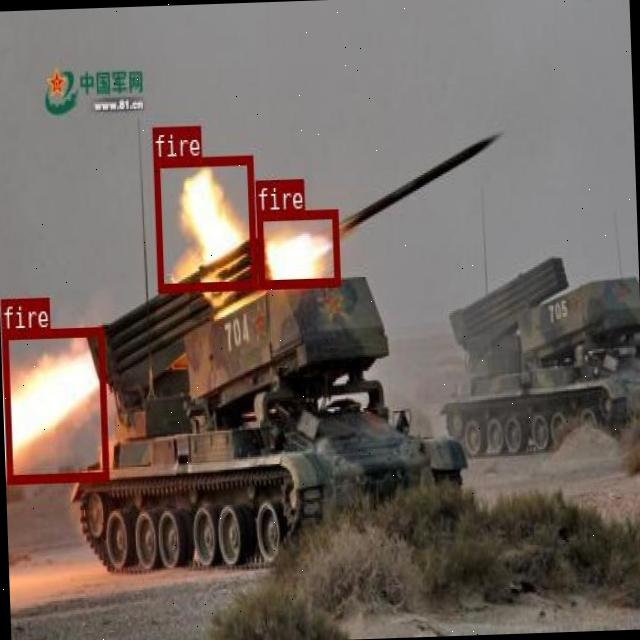fire: (1, 326, 107, 481), (153, 153, 256, 290), (255, 208, 339, 288)
